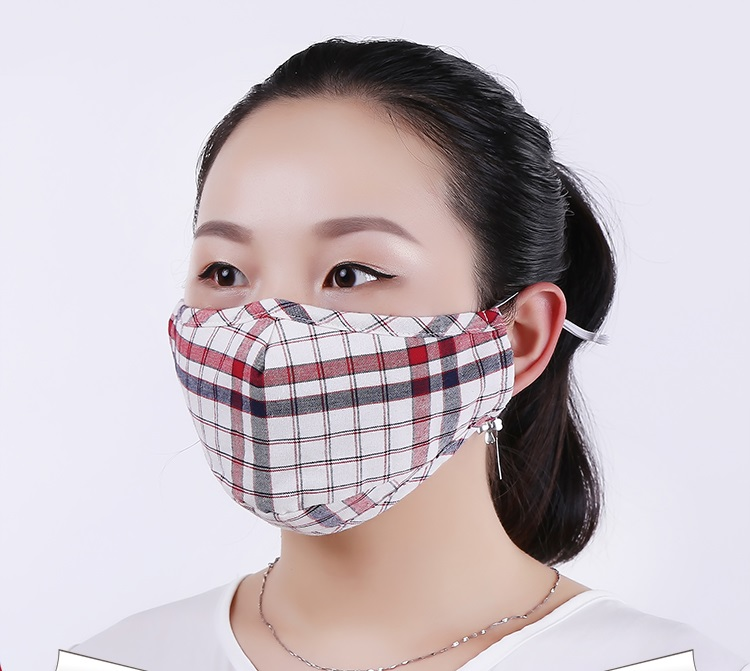face_mask: (174, 113, 475, 497)
